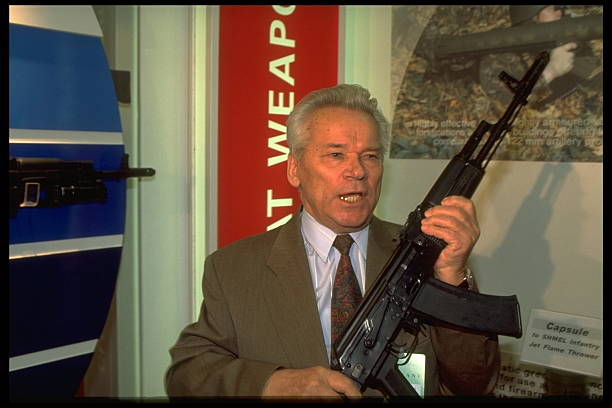rifle: (338, 47, 563, 391), (7, 150, 164, 235)
